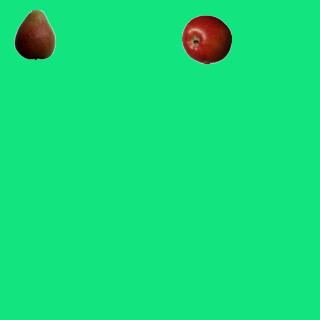Apple Braeburn: (181, 14, 231, 64)
Pear Forelle: (9, 9, 59, 59)
